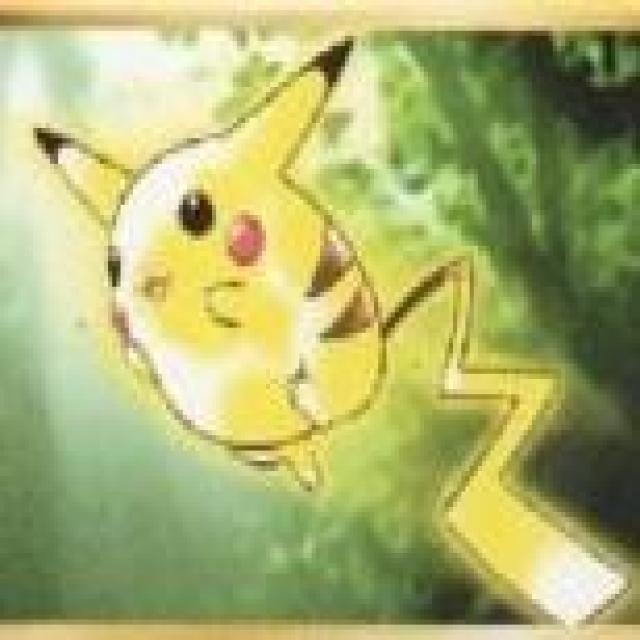pikachu: (34, 38, 626, 628)
